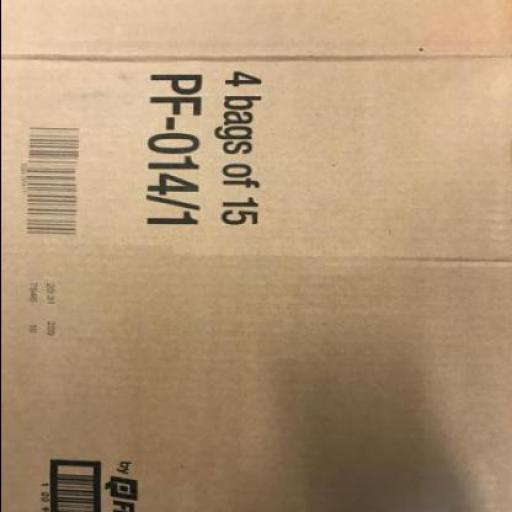cardboard: (1, 0, 511, 512)
